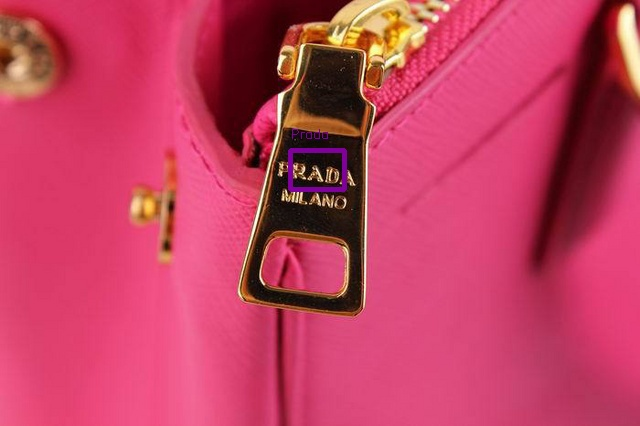Prada: (274, 156, 358, 188)
